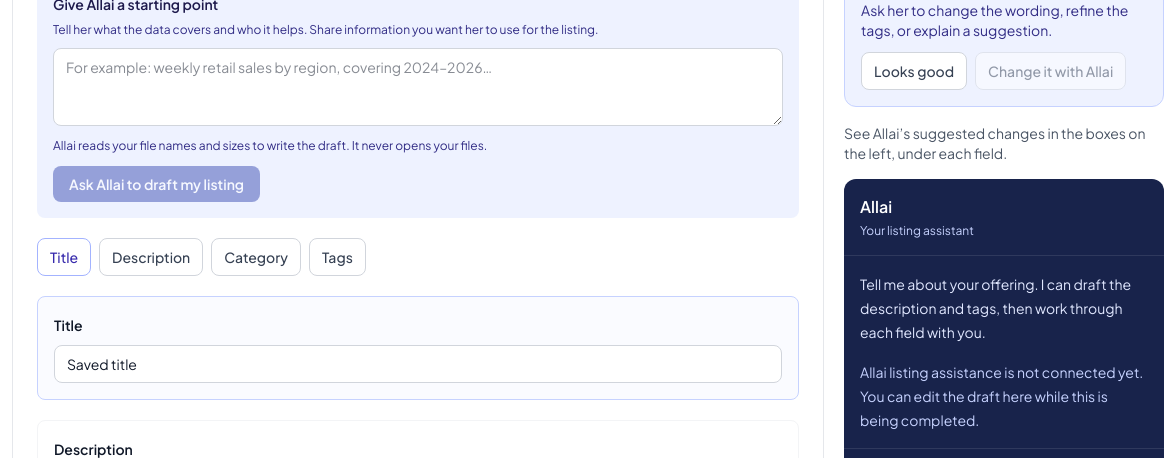
Scenario: preserves saved licence and sample metadata when sample capability is false
This screenshot has width=1164, height=458.
Replace the text in the text box labelled "Title" with "Updated title" at (418, 364), box 54,345 -> 782,383
(page scrolled)
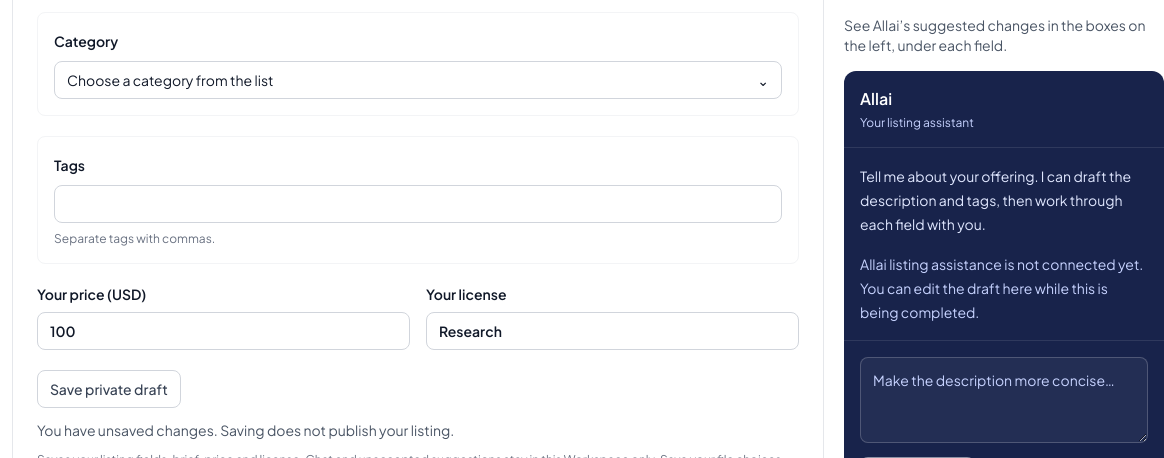
Click the button "Save private draft" at (109, 389), box 37,370 -> 181,408
(page scrolled)
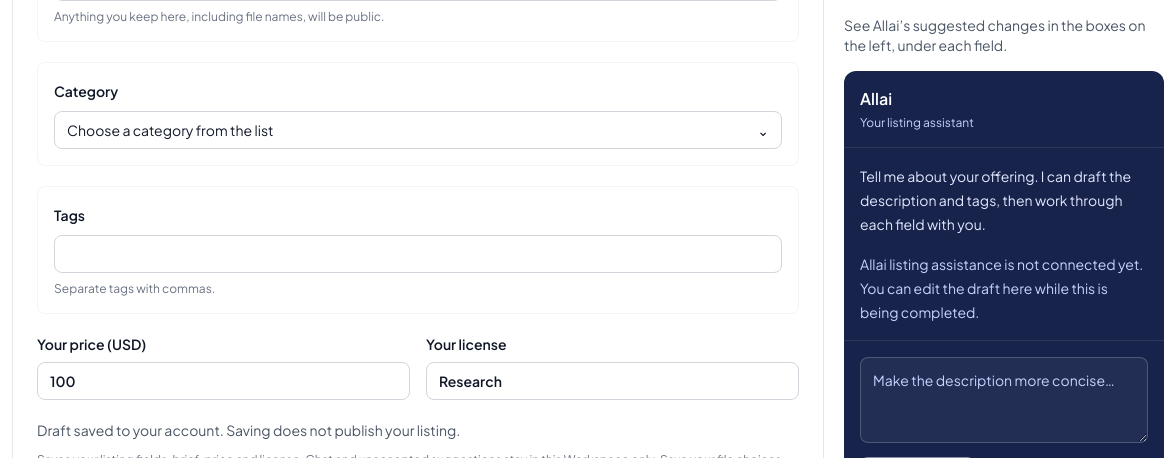
Result: the text "Draft saved to your account. Saving does not publish your listing." is shown at 37,421 -> 460,439
